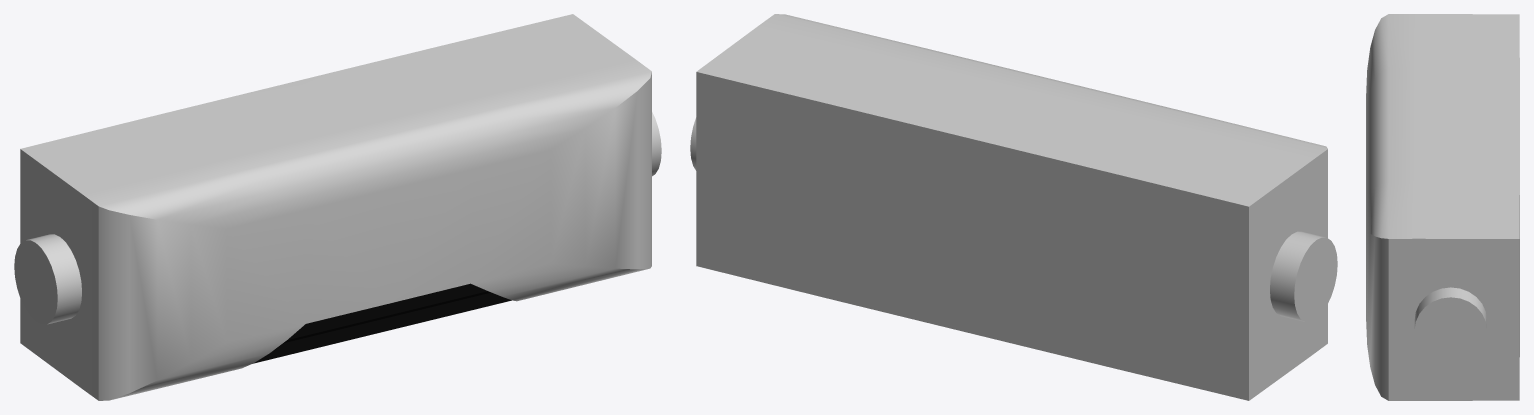
Rendered from Aire Acodicionado.fbx.
3 views of the same model, side by side, from view 1: azimuth 30°, elevation 25°; view 2: azimuth 150°, elevation 25°; view 3: azimuth 270°, elevation 25° (orthographic). The views are drawn at different scales.
Visible parts, largest first — view 1: Cube.004, Cube.005; view 2: Cube.004; view 3: Cube.004.
Part boxes in pixels (x1,y1,x2,y2): Cube.004: (14, 14, 661, 400); Cube.005: (253, 283, 511, 363); Cube.004: (690, 14, 1337, 400); Cube.004: (1366, 14, 1519, 400).
Size of the model in its own units: 658 by 204 by 174.
